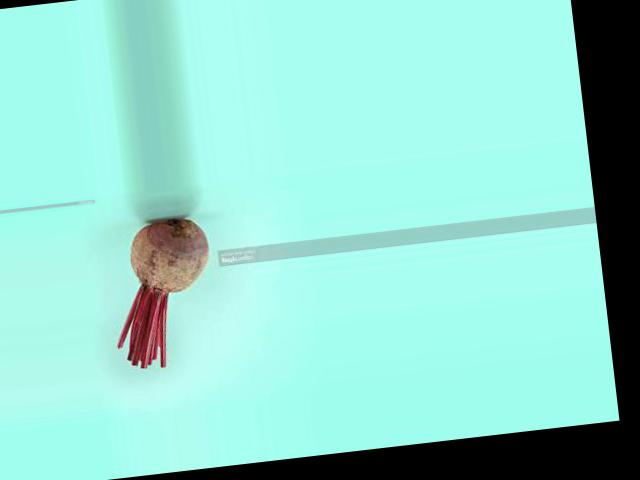beet: (104, 215, 222, 372)
